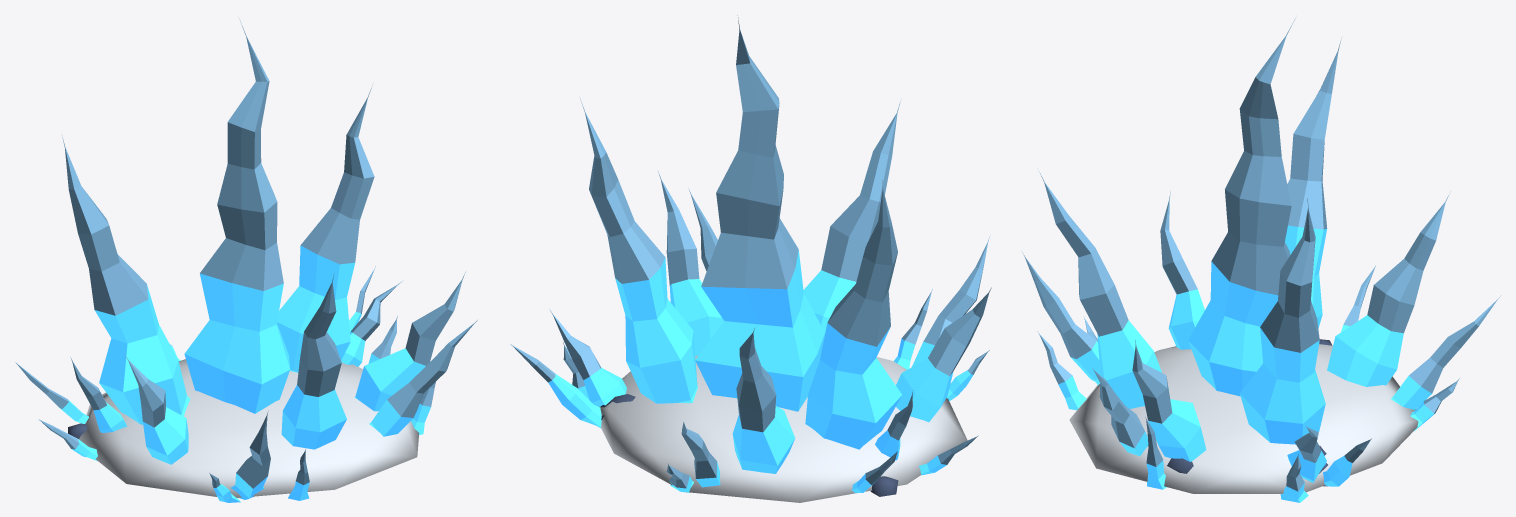
Rendered from ice_spike_b.glb.
3 renders of one model, left to right at view 1: azimuth 30°, elevation 25°; view 2: azimuth 150°, elevation 25°; view 3: azimuth 270°, elevation 25°, orthographic. The views are drawn at different scales.
Visible parts, largest first — view 1: ice_spike_b; view 2: ice_spike_b; view 3: ice_spike_b.
Boxes of the visible parts, box(x1,y1,x2,y2) form: ice_spike_b: box(15, 19, 477, 502); ice_spike_b: box(510, 15, 991, 502); ice_spike_b: box(1022, 18, 1501, 502).
Size of the model in its own units: 3.01 by 2.94 by 3.1.
